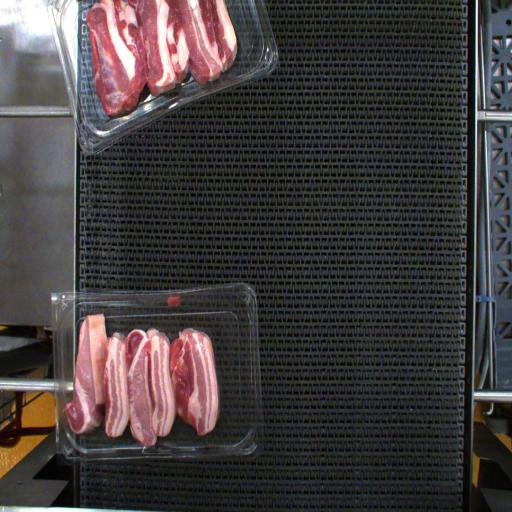loose-meat: (156, 290, 190, 316)
